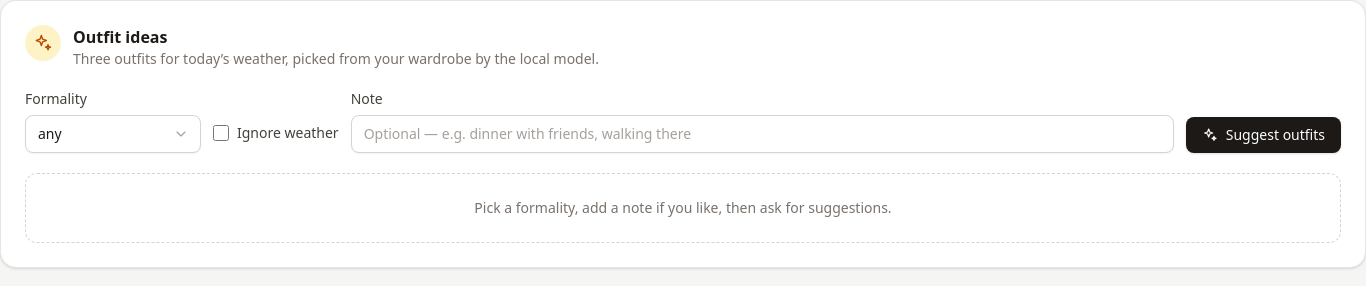
Test: ING-050 - tester edge cases › does not crash on a 200 with outfits missing
Click the button "Suggest outfits".
click(1263, 135)  # box [1186,117,1341,153]
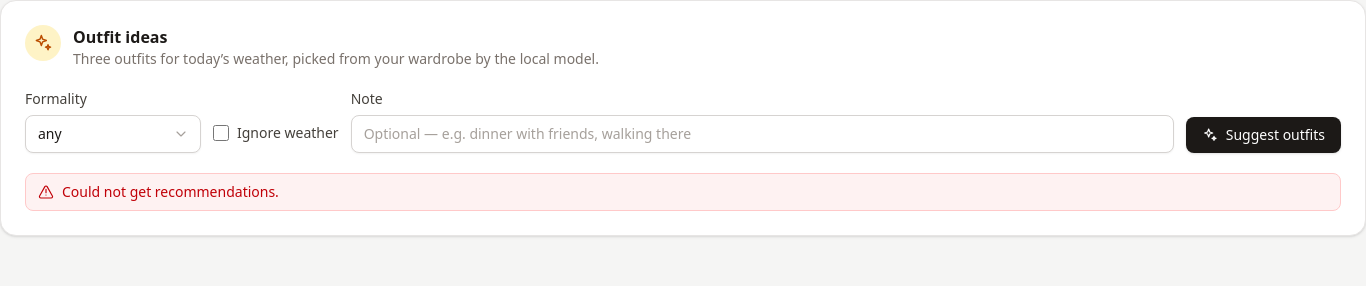
expect the message reads "Could not get recommendations.": met, box [62,182,279,201]
